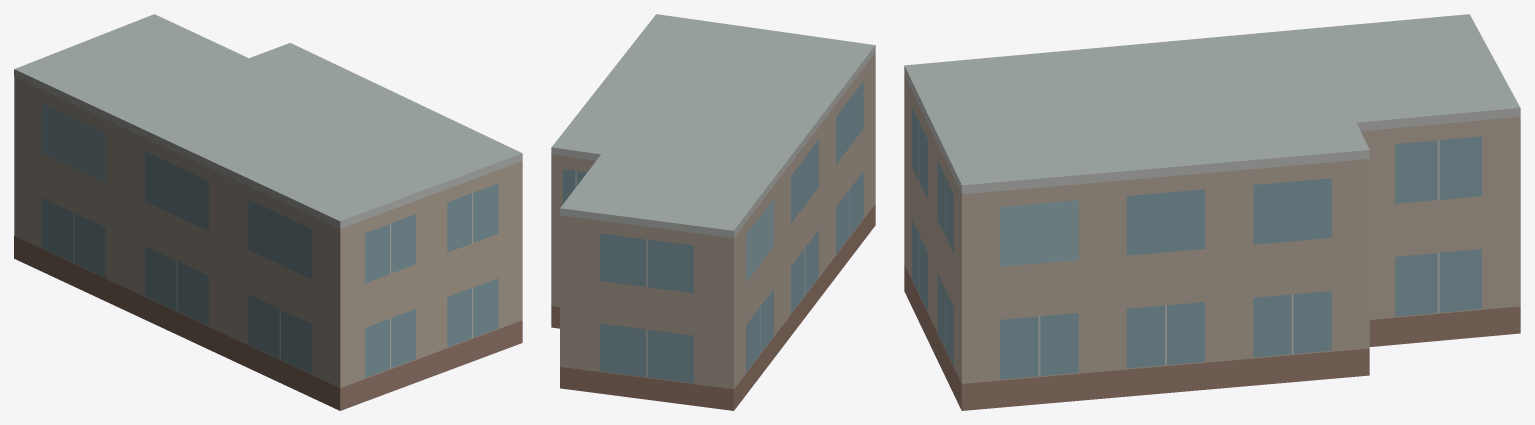
File: survey-upis-32925950.glb
3 renders of one model, left to right at view 1: azimuth 30°, elevation 25°; view 2: azimuth 150°, elevation 25°; view 3: azimuth 270°, elevation 25°, orthographic. The views are drawn at different scales.
Parts seen in each view (by area): view 1: survey-upis-32925950.tmp; view 2: survey-upis-32925950.tmp; view 3: survey-upis-32925950.tmp.
Part boxes in pixels (x1,y1,x2,y2): survey-upis-32925950.tmp: [14, 14, 522, 410]; survey-upis-32925950.tmp: [551, 14, 875, 410]; survey-upis-32925950.tmp: [904, 14, 1520, 410].
Size of the model in its own units: 9.95 by 6.1 by 15.12.
